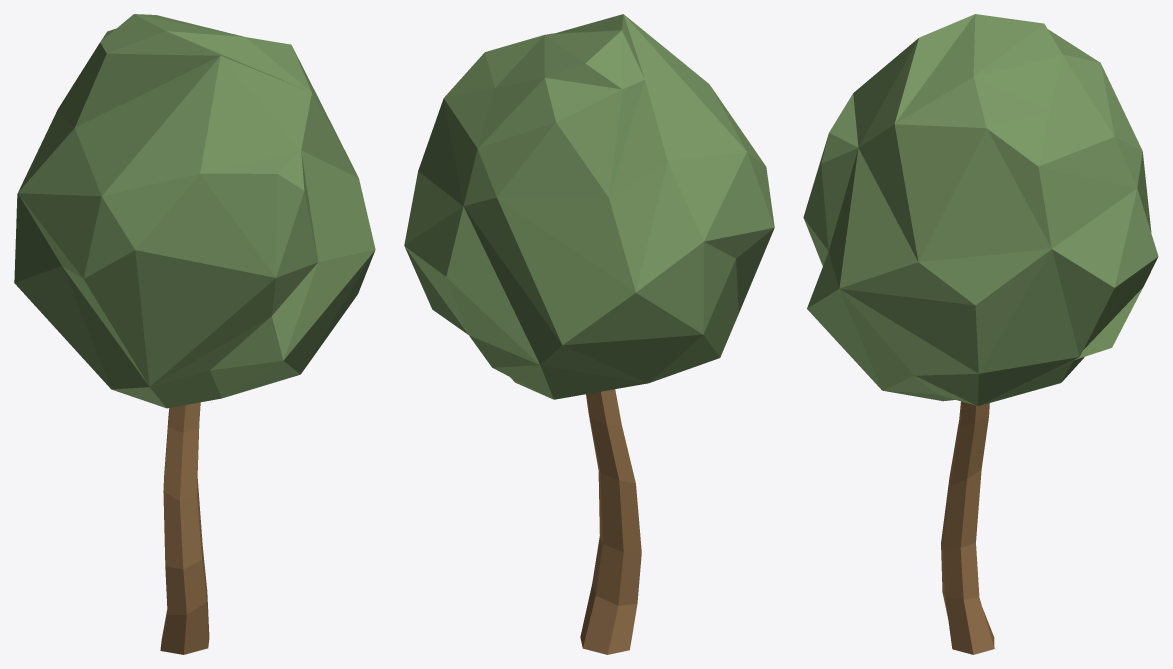
Rendered from tree1.fbx.
The picture shows the model from 3 angles, left to right: view 1: azimuth 30°, elevation 25°; view 2: azimuth 150°, elevation 25°; view 3: azimuth 270°, elevation 25°; orthographic projection.
Parts seen in each view (by area): view 1: pCube2; view 2: pCube2; view 3: pCube2.
Part boxes in pixels (x1,y1,x2,y2): pCube2: (14, 14, 375, 654); pCube2: (404, 14, 774, 654); pCube2: (803, 14, 1158, 654).
Bounding box in the file's own units: 11.6 × 22.81 × 11.82.
